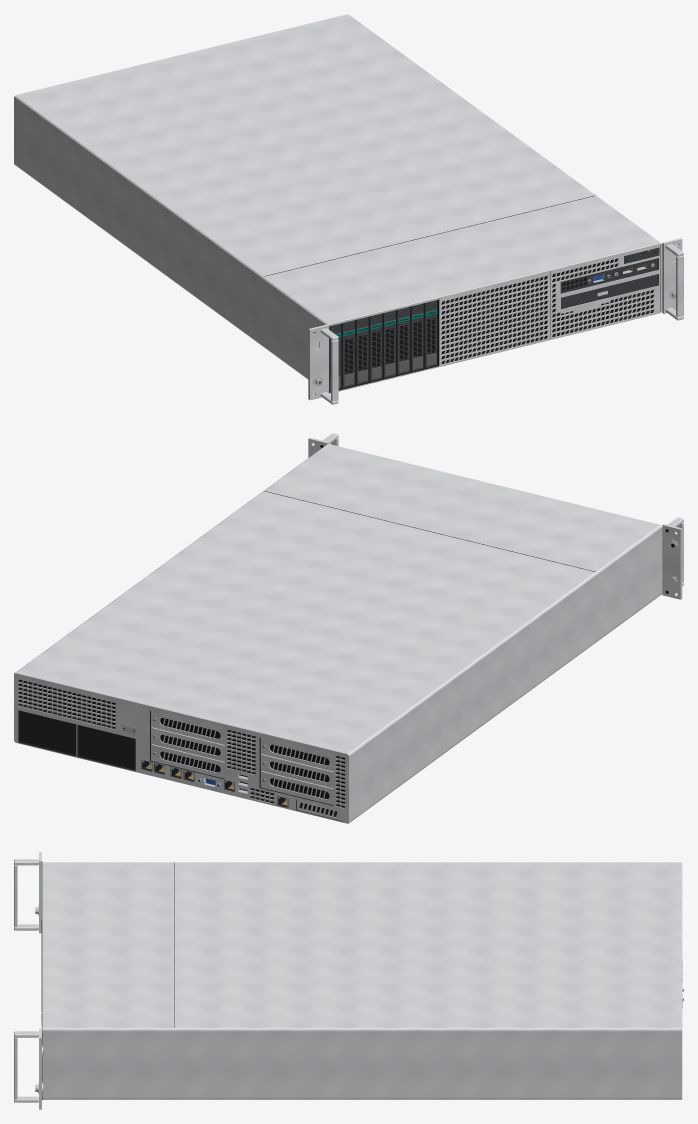
3 views of the same model, one above another, from view 1: azimuth 30°, elevation 25°; view 2: azimuth 150°, elevation 25°; view 3: azimuth 270°, elevation 25° (orthographic). The views are drawn at different scales.
Parts seen in each view (by area): view 1: Shell, Drive_Carriers, Rack_Ears; view 2: Shell, Rear, Rack_Ears, empty:PSU1, empty:PSU2; view 3: Shell, Rack_Ears.
Boxes of the visible parts, <box> form: Shell: <box>14,14,662,393</box>; Drive_Carriers: <box>329,300,437,391</box>; Rack_Ears: <box>308,238,683,404</box>; Shell: <box>14,444,662,823</box>; Rear: <box>14,673,348,823</box>; Rack_Ears: <box>308,433,683,599</box>; empty:PSU1: <box>19,710,76,755</box>; empty:PSU2: <box>79,725,135,769</box>; Shell: <box>41,862,682,1099</box>; Rack_Ears: <box>14,852,43,1109</box>.
Size of the model in its own units: 0.486 by 0.0878 by 0.7405.
Materials: 19 (3 with a texture image).
